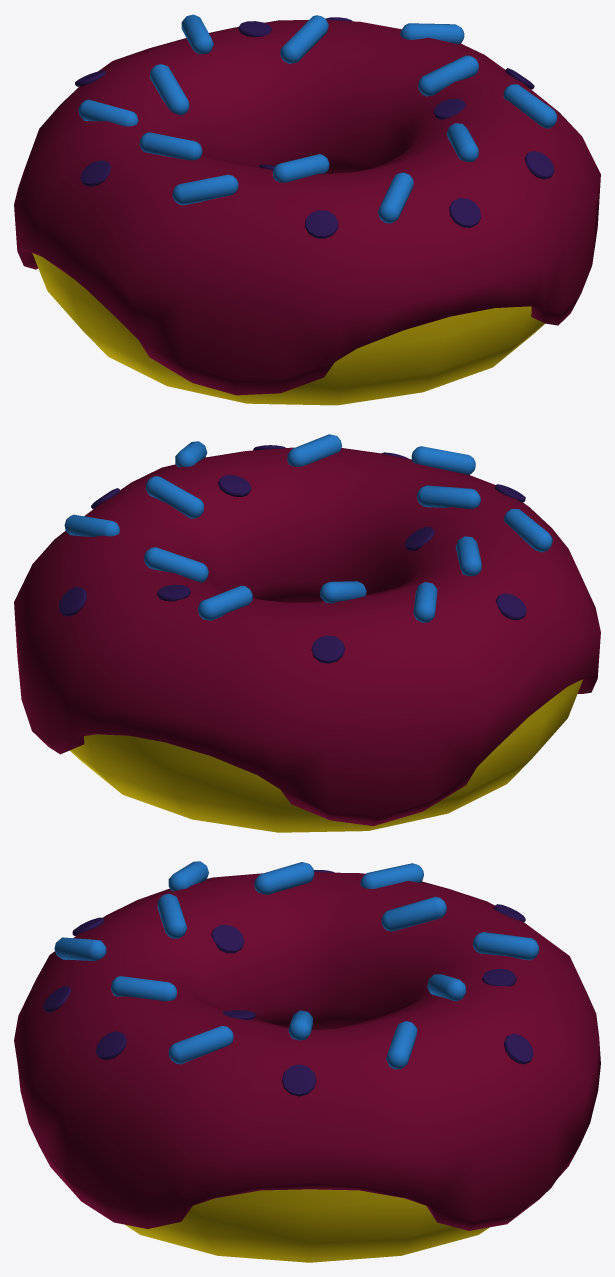
Rendered from Donut_2.FBX.
The picture shows the model from 3 angles, top to bottom: view 1: azimuth 30°, elevation 25°; view 2: azimuth 150°, elevation 25°; view 3: azimuth 270°, elevation 25°; orthographic projection. The views are drawn at different scales.
Visible parts, largest first — view 1: Donut_2; view 2: Donut_2; view 3: Donut_2.
Boxes of the visible parts, x1,y1,x2,y2 form: Donut_2: (14,14,600,405); Donut_2: (14,434,600,832); Donut_2: (14,861,600,1262).
Size of the model in its own units: 1033 by 1033 by 447.
